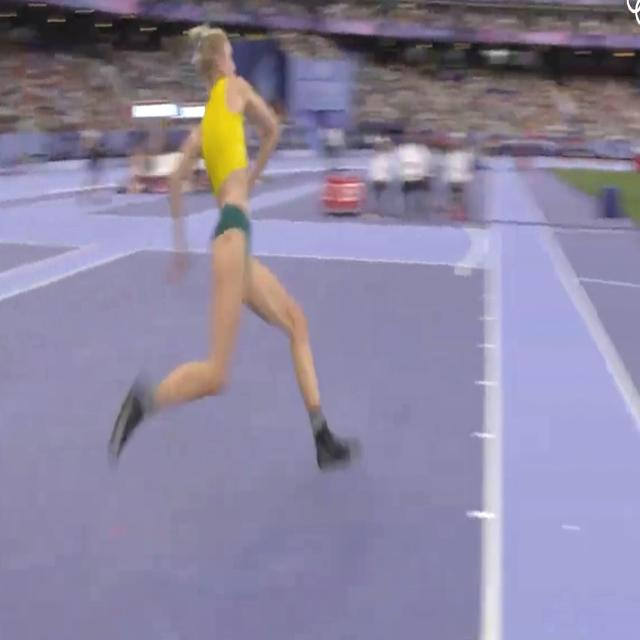run: (108, 27, 365, 469)
